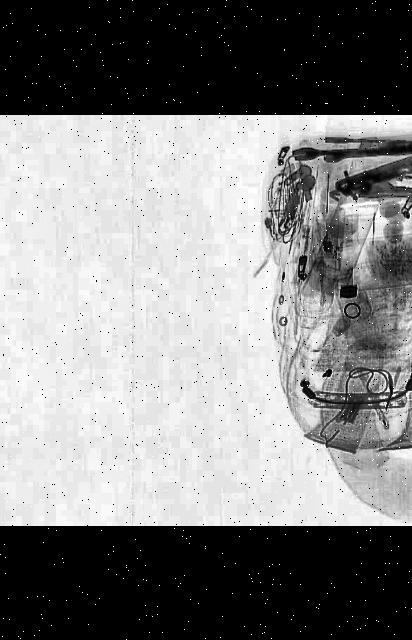Pliers: (392, 148, 412, 193)
